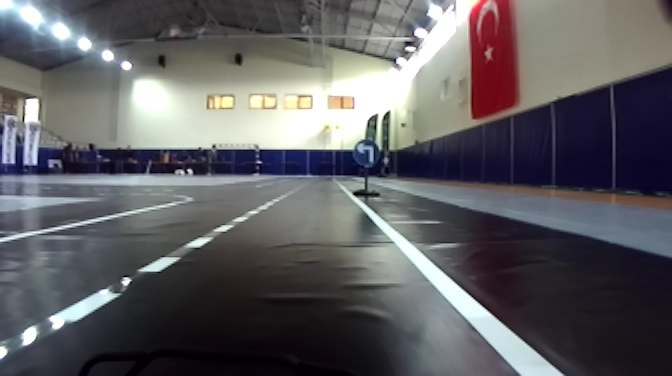sola_donus: (353, 137, 380, 168)
